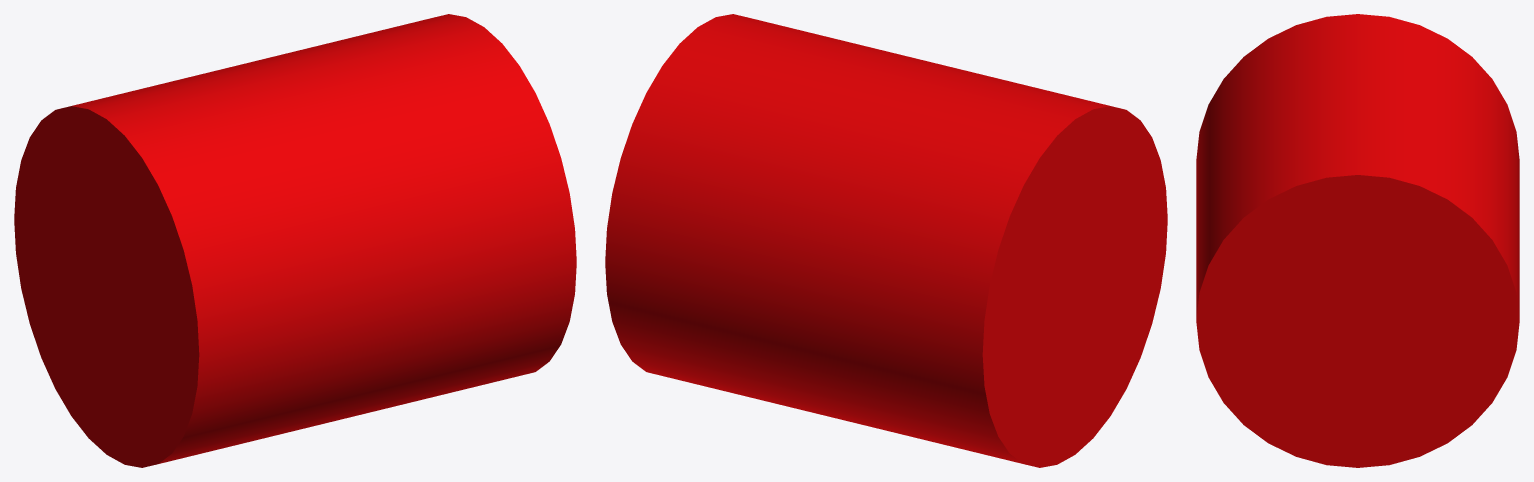
File: muzzle_03.fbx
The picture shows the model from 3 angles, left to right: view 1: azimuth 30°, elevation 25°; view 2: azimuth 150°, elevation 25°; view 3: azimuth 270°, elevation 25°; orthographic projection. The views are drawn at different scales.
Parts seen in each view (by area): view 1: Cylinder.001; view 2: Cylinder.001; view 3: Cylinder.001.
Boxes of the visible parts, bbox=[...] form: Cylinder.001: bbox=[14, 14, 576, 467]; Cylinder.001: bbox=[605, 14, 1167, 467]; Cylinder.001: bbox=[1196, 14, 1519, 467].
Bounding box in the file's own units: 235 × 200 × 200.
